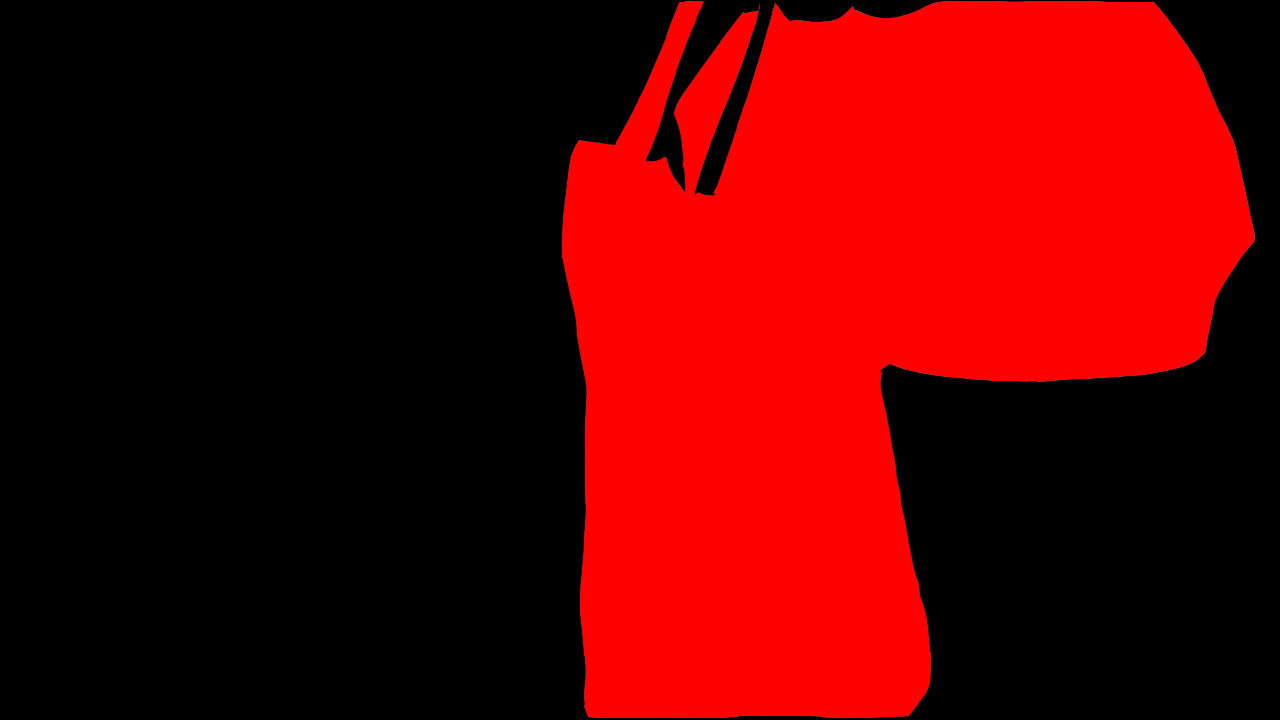uniforme_ifmt: (557, 6, 1257, 717)
